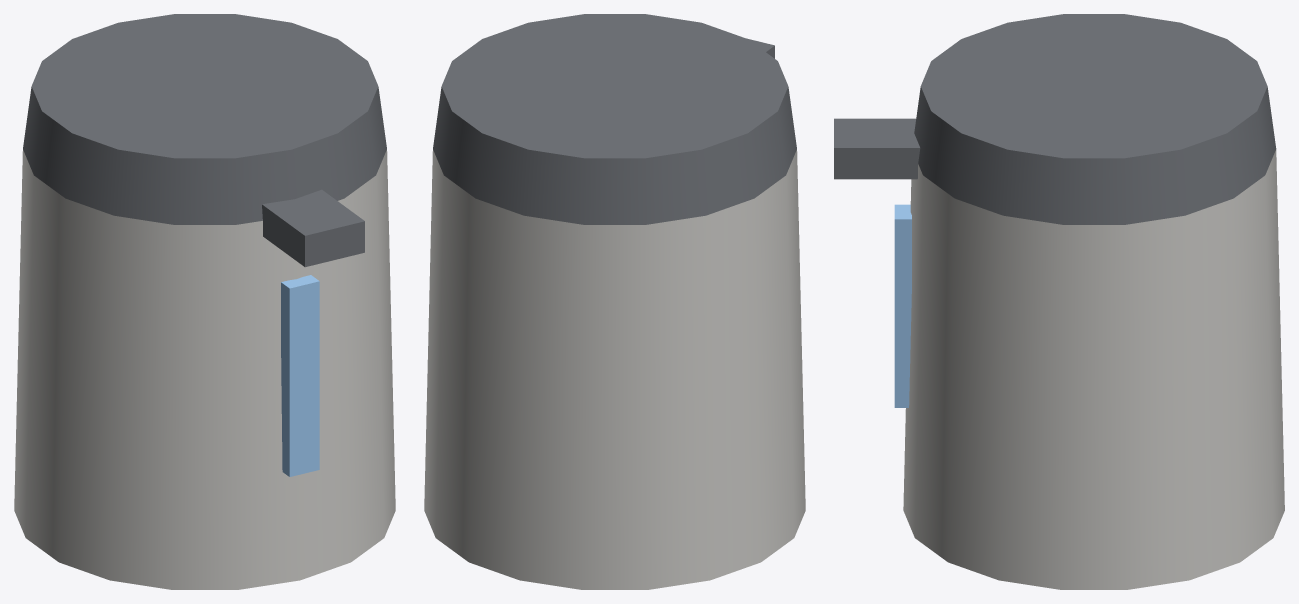
File: kettle_electric_pot.glb
The picture shows the model from 3 angles, left to right: view 1: azimuth 30°, elevation 25°; view 2: azimuth 150°, elevation 25°; view 3: azimuth 270°, elevation 25°; orthographic projection.
Visible parts, largest first — view 1: kettle_electric_pot; view 2: kettle_electric_pot; view 3: kettle_electric_pot.
Part boxes in pixels (left/top/right/bottom): kettle_electric_pot: left=14, top=14, right=395, bottom=589; kettle_electric_pot: left=424, top=14, right=805, bottom=589; kettle_electric_pot: left=834, top=14, right=1284, bottom=589.
Size of the model in its own units: 0.2167 by 0.27 by 0.26.
